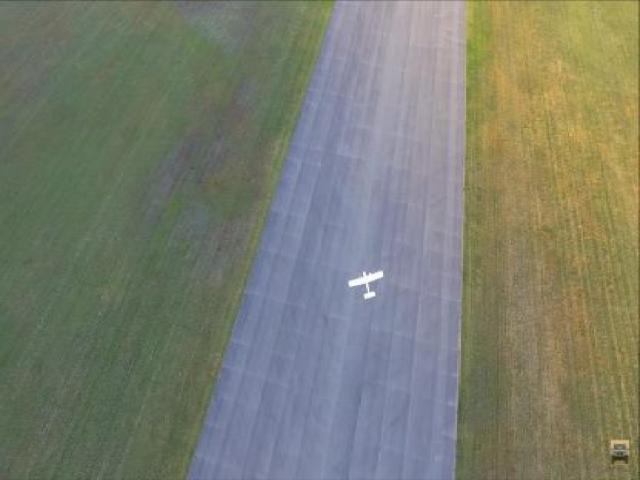uav: (347, 269, 385, 299)
